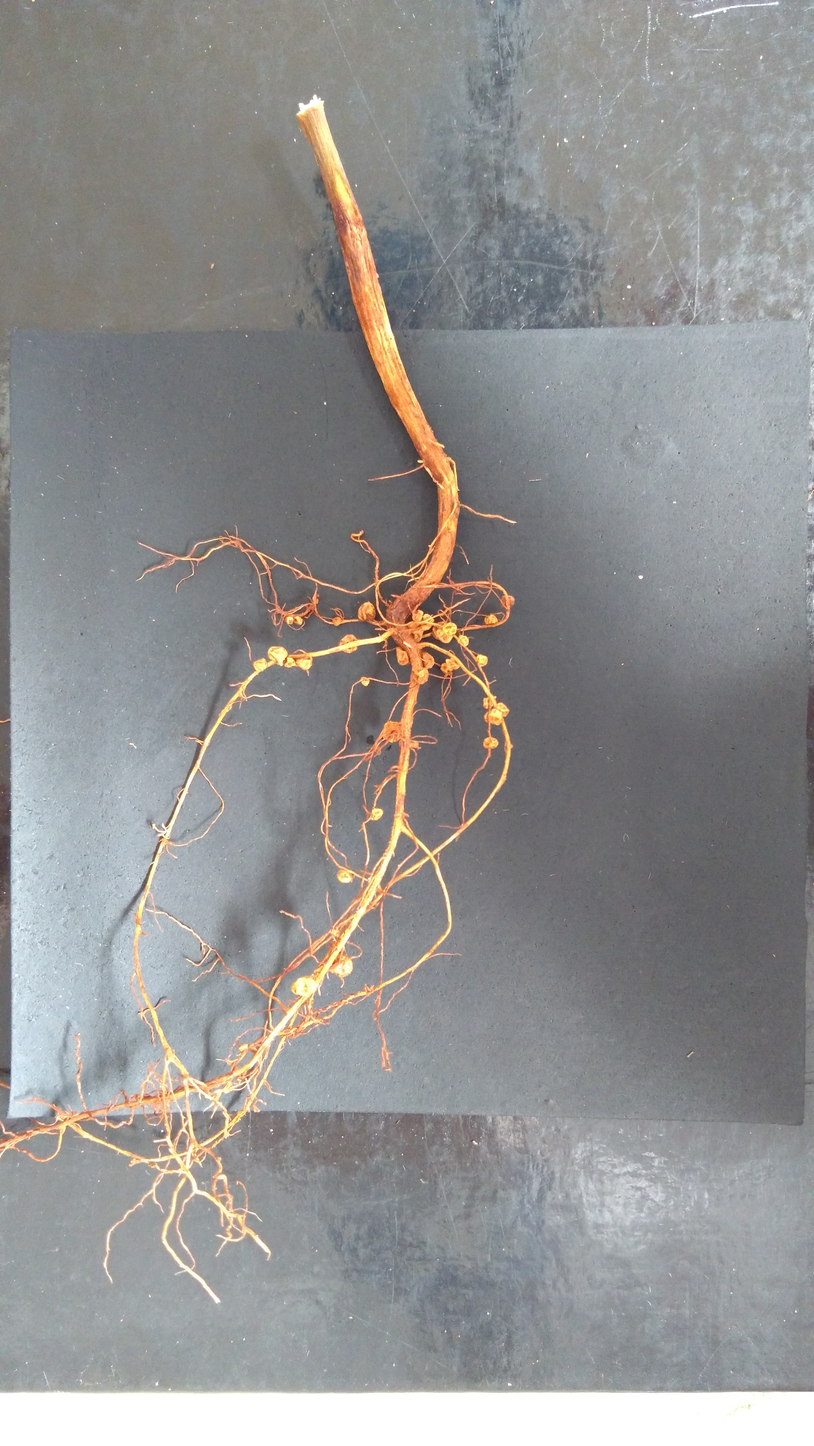nodule: (329, 953, 356, 979), (289, 975, 319, 998), (430, 620, 454, 644), (381, 720, 404, 743), (336, 633, 359, 655), (356, 601, 377, 622), (267, 646, 288, 667), (335, 867, 356, 885), (394, 646, 411, 668), (406, 621, 423, 643), (483, 708, 503, 726), (420, 650, 436, 671), (294, 655, 313, 670), (495, 701, 510, 718), (416, 667, 430, 685), (253, 657, 268, 673), (482, 736, 499, 750), (444, 657, 462, 670), (474, 653, 489, 668), (442, 622, 458, 636), (499, 594, 514, 608), (484, 612, 499, 625), (439, 662, 454, 675), (283, 655, 296, 668), (411, 609, 424, 622), (420, 619, 433, 632), (457, 634, 470, 647), (370, 808, 384, 820), (292, 615, 305, 627), (483, 696, 495, 709), (332, 616, 342, 629), (423, 612, 434, 623), (284, 615, 294, 625), (361, 676, 370, 687)
